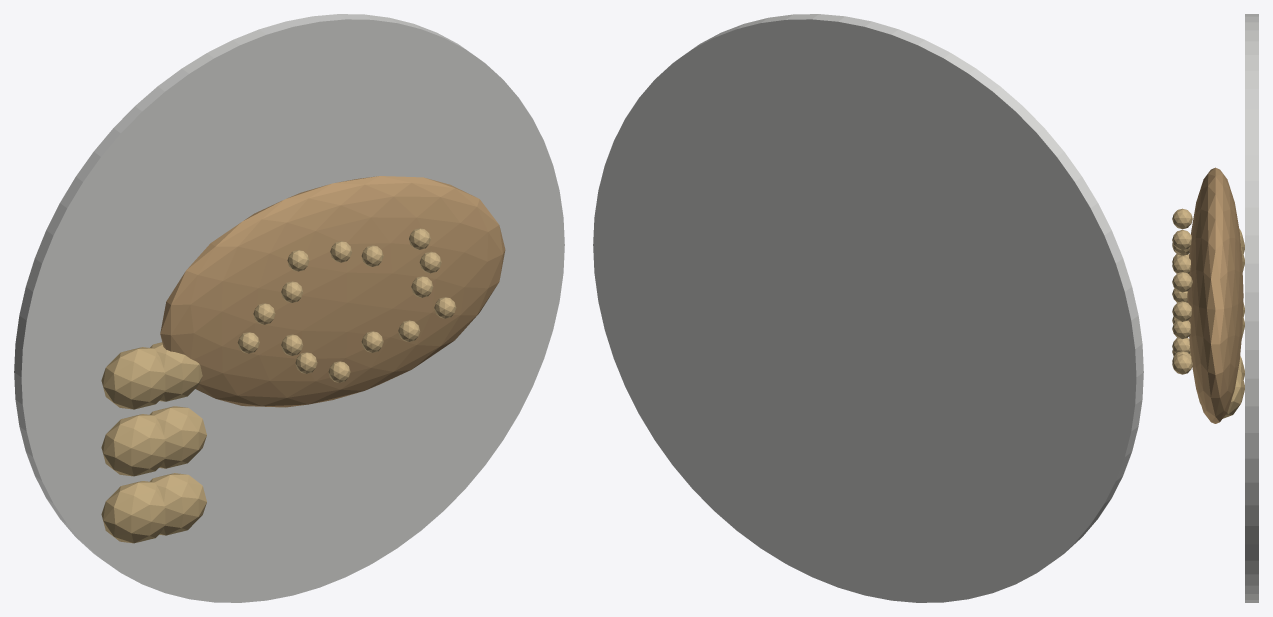
The model's file is milanesa-ojo-bife.glb.
The picture shows the model from 3 angles, left to right: view 1: azimuth 30°, elevation 25°; view 2: azimuth 150°, elevation 25°; view 3: azimuth 270°, elevation 25°; orthographic projection. The views are drawn at different scales.
Visible parts, largest first — view 1: world; view 2: world; view 3: world.
Part boxes in pixels (bbox=[...]): world: bbox=[14, 14, 564, 602]; world: bbox=[593, 14, 1143, 602]; world: bbox=[1172, 14, 1258, 602].
Size of the model in its own units: 0.34 by 0.34 by 0.05.
